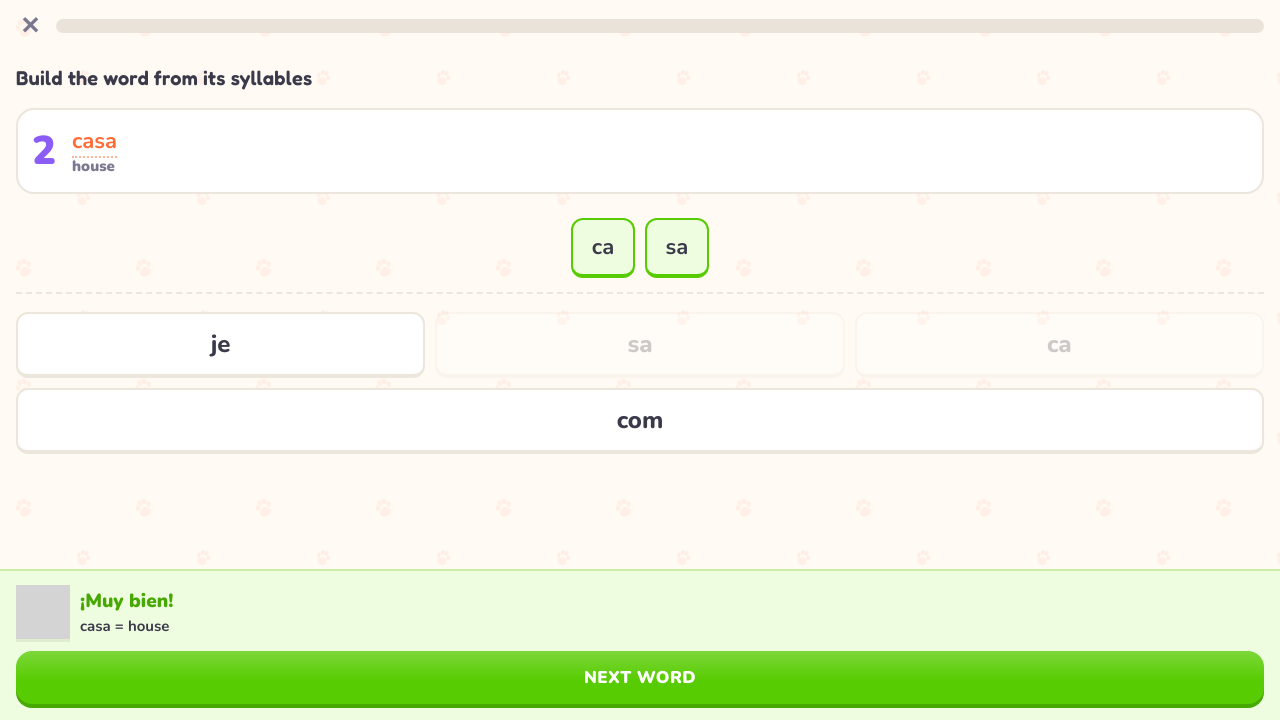
Test case: Syllable builder › builds eight words tile by tile: a wrong tile shakes and stays, the right ones fill the slots
The width and height of the screenshot is (1280, 720).
Earlier steps of the test are not shown.
Later steps or results of the test are not shown.
Expected: the number of elements with class "filled" is 2, [571,218,635,278]; [645,218,709,278]
Expected: the text "¡Muy bien!" is shown, [80,588,173,614]
Click the button "Next word": x=640, y=678 [16,651,1264,704]
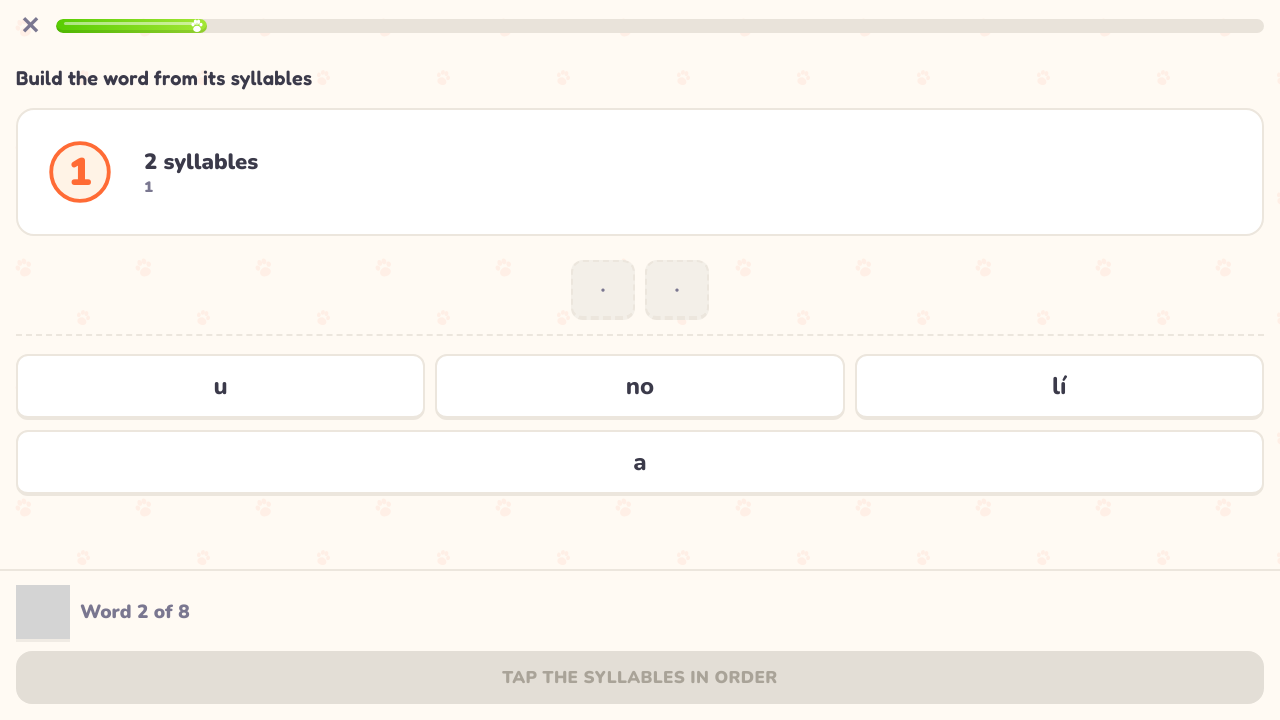
Click the button with class "tile" showing "u": x=221, y=387 [16,354,425,420]
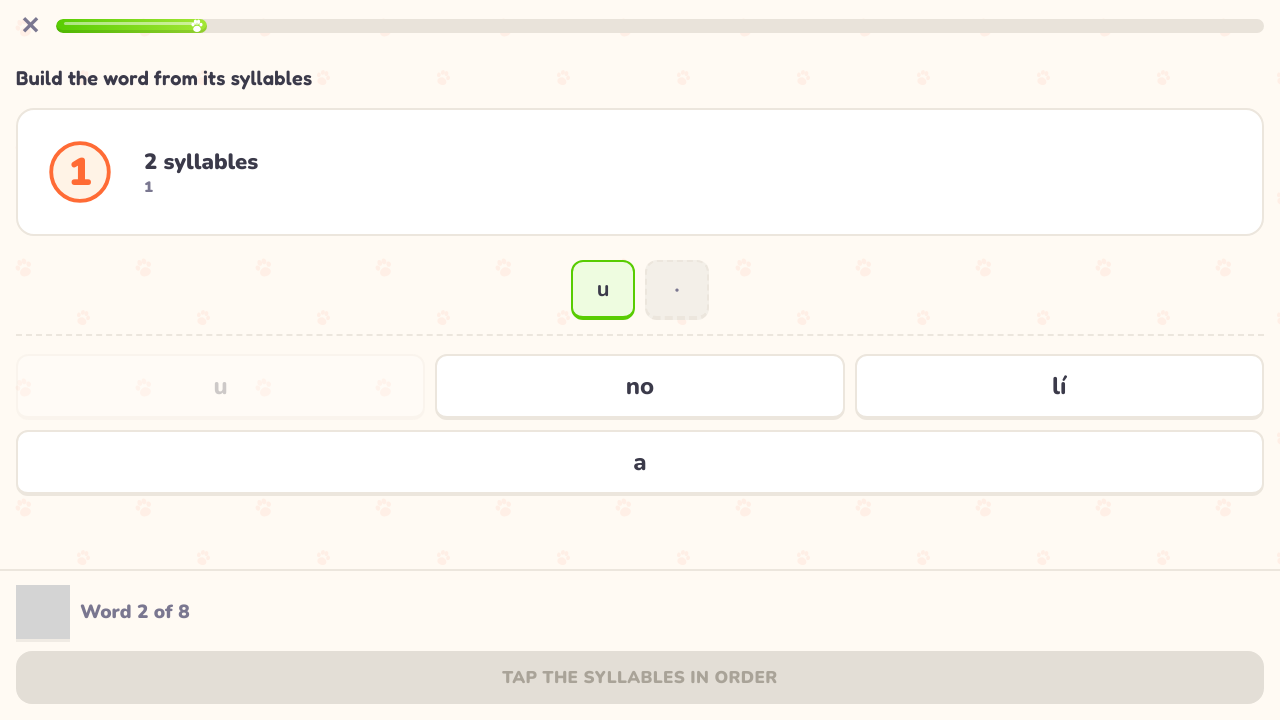
Expected: the number of elements with class "filled" is 1, [571,260,635,320]
Click the button with class "tile" showing "no": x=640, y=387 [435,354,845,420]
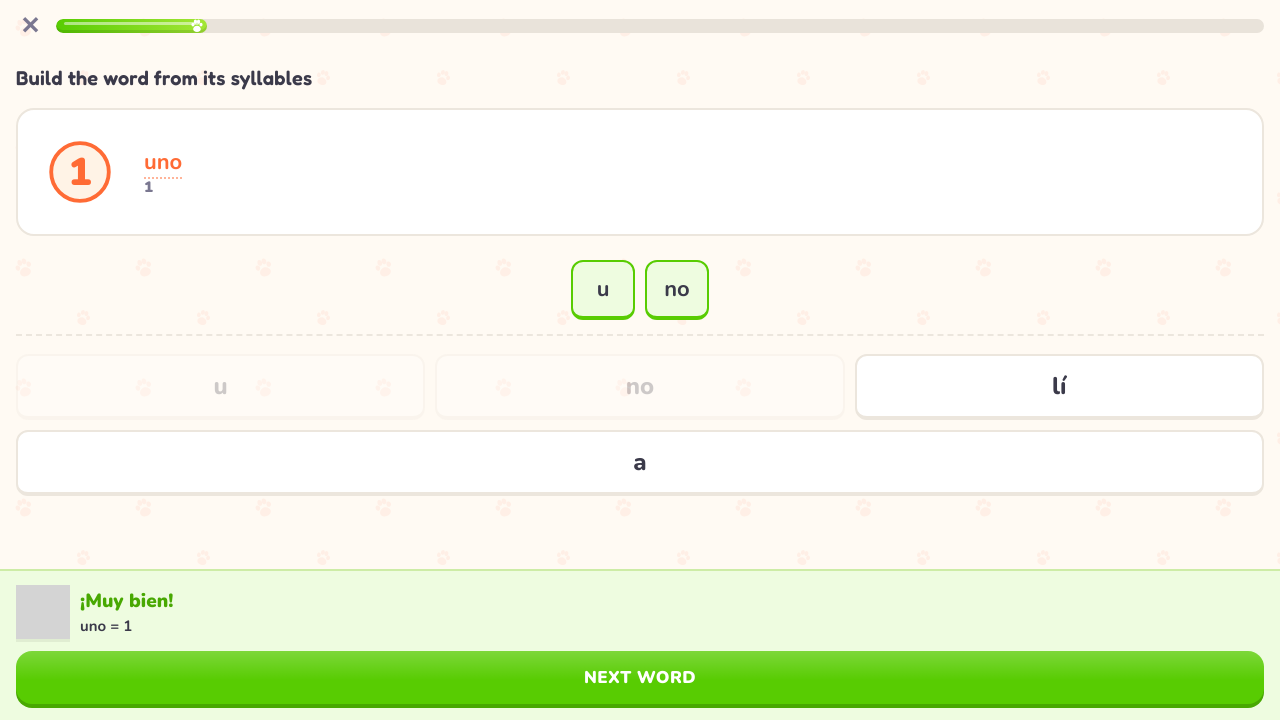
Expected: the number of elements with class "filled" is 2, [571,260,635,320]; [645,260,709,320]
Now the text "¡Muy bien!" is shown, box [80,588,173,614]
Now the text "uno" is shown, box [144,147,182,179]
Click the button "Next word": x=640, y=678 [16,651,1264,704]
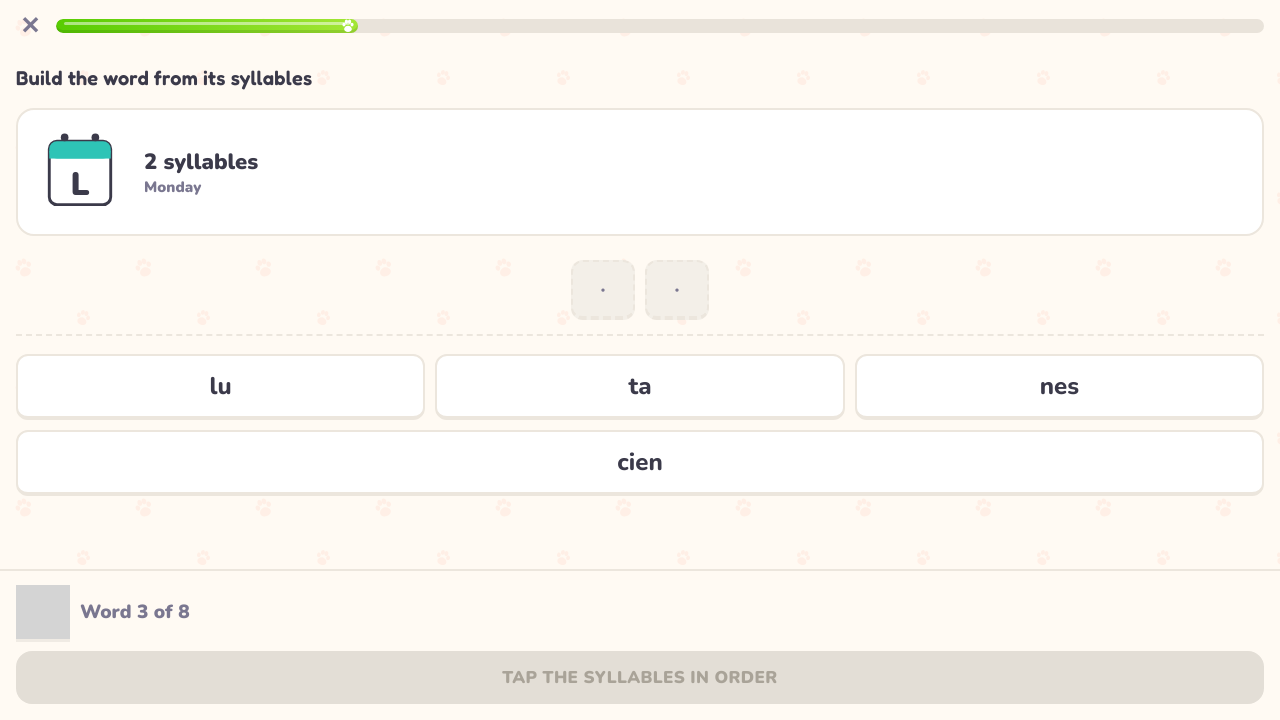
Click the button with class "tile" showing "lu": x=221, y=387 [16,354,425,420]
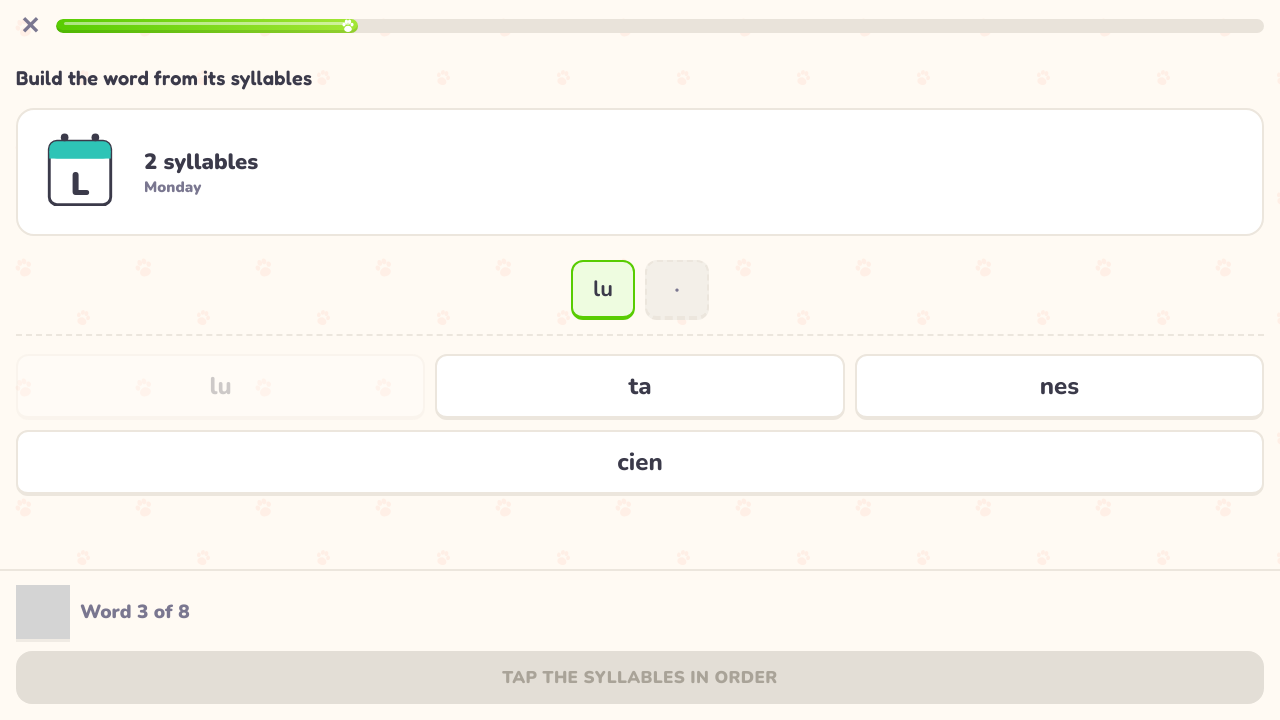
Expected: the number of elements with class "filled" is 1, [571,260,635,320]
Click the button with class "tile" showing "ta": x=640, y=387 [435,354,845,420]
Now the button with class "tile" showing "ta" is enabled, box [435,354,845,420]
Click the button with class "tile" showing "nes": x=1059, y=387 [855,354,1264,420]
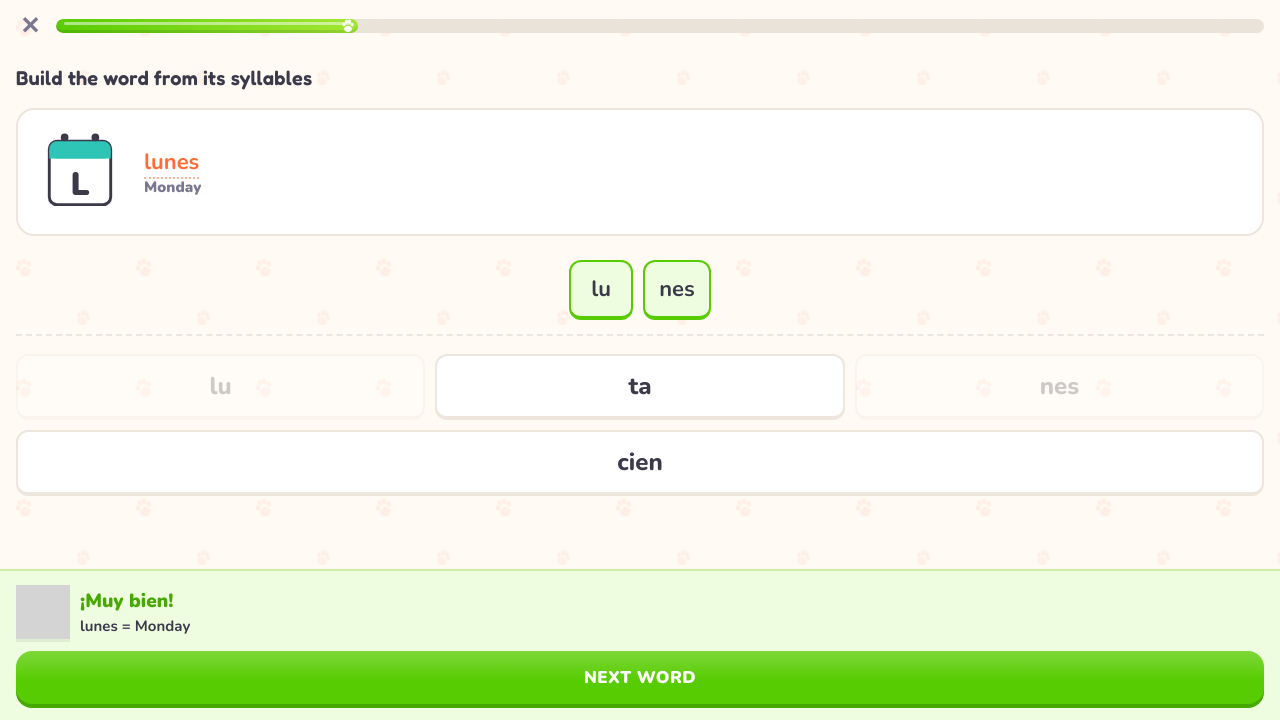
Expected: the number of elements with class "filled" is 2, [569,260,633,320]; [643,260,711,320]
Now the text "¡Muy bien!" is shown, box [80,588,173,614]
Now the text "lunes" is shown, box [144,147,199,179]
